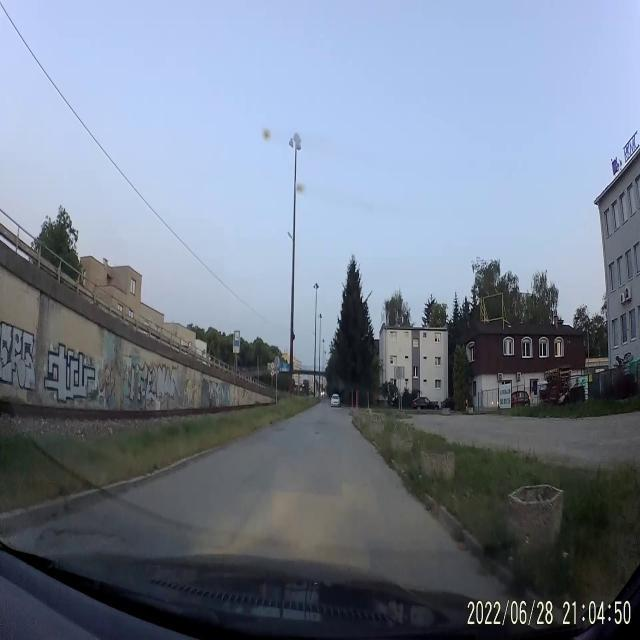Pothole: (36, 522, 126, 554), (272, 424, 288, 434), (313, 429, 322, 437)
